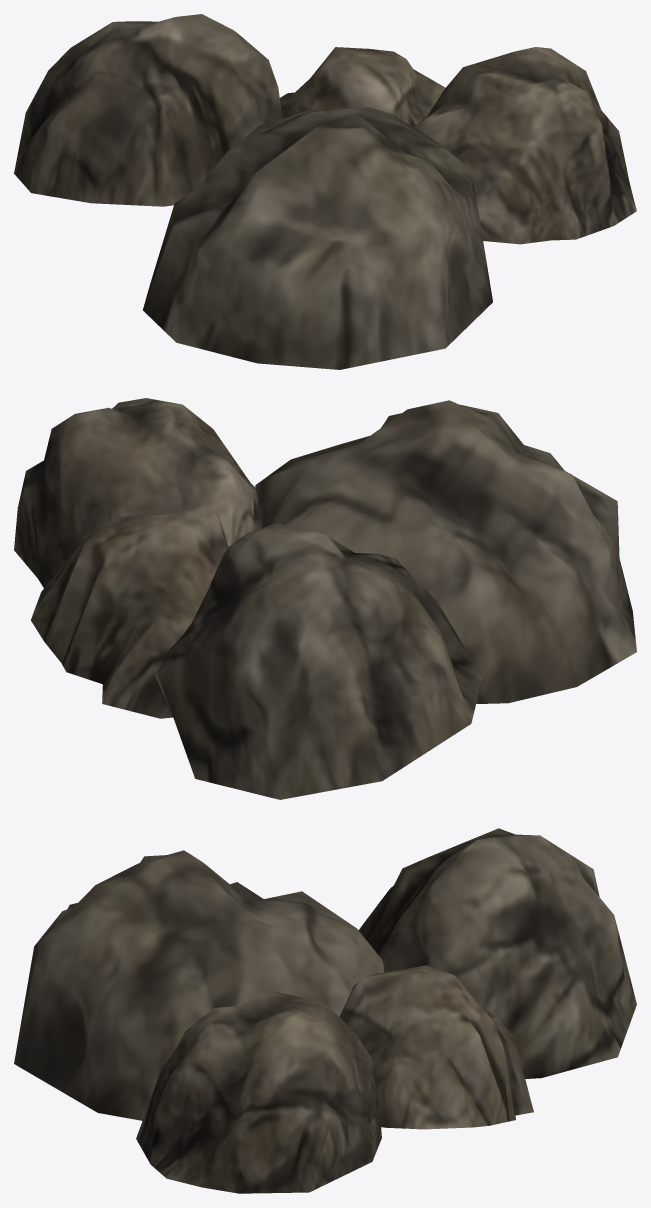
Rendered from MEP_C_Boulder_Grp_01_N.fbx.
3 renders of one model, top to bottom at view 1: azimuth 30°, elevation 25°; view 2: azimuth 150°, elevation 25°; view 3: azimuth 270°, elevation 25°, orthographic. The views are drawn at different scales.
Parts seen in each view (by area): view 1: MEP_C_Boulder_Grp_01; view 2: MEP_C_Boulder_Grp_01; view 3: MEP_C_Boulder_Grp_01.
Boxes of the visible parts, <box> form: MEP_C_Boulder_Grp_01: <box>14,14,636,369</box>; MEP_C_Boulder_Grp_01: <box>14,398,636,799</box>; MEP_C_Boulder_Grp_01: <box>14,828,636,1193</box>.
Size of what is drawn, in the model's own units: 140 by 53.9 by 144.
1 material, 1 textured.
